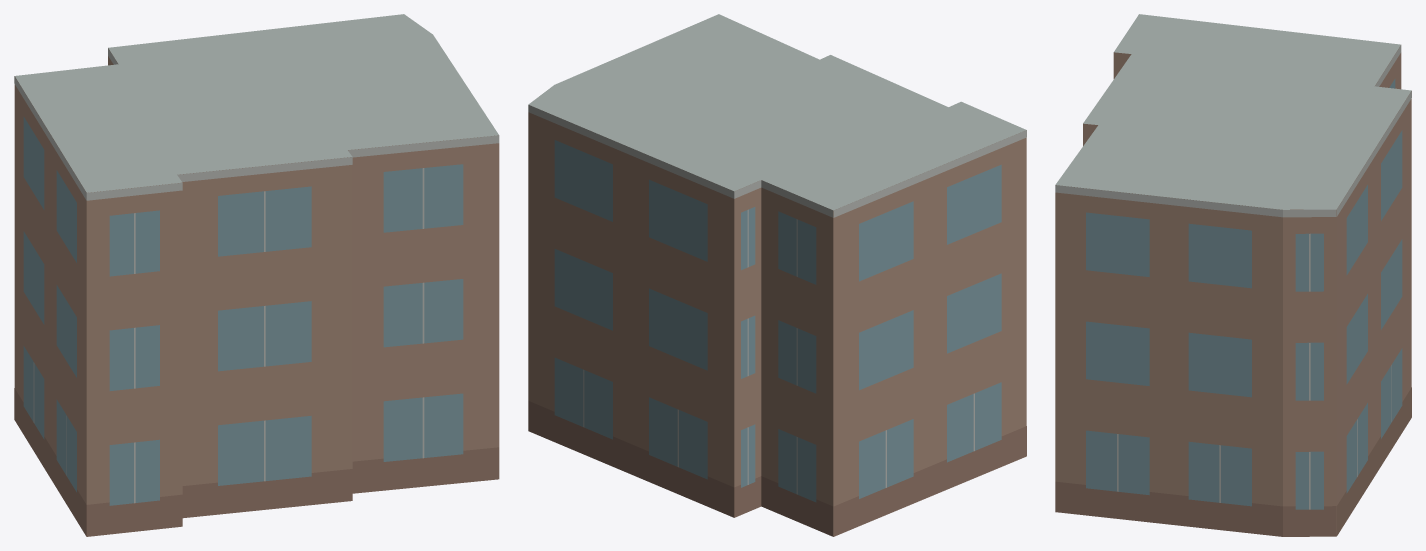
Rendered from survey-upis-32694445.glb.
3 views of the same model, side by side, from view 1: azimuth 30°, elevation 25°; view 2: azimuth 150°, elevation 25°; view 3: azimuth 270°, elevation 25° (orthographic). The views are drawn at different scales.
Parts seen in each view (by area): view 1: survey-upis-32694445.tmp; view 2: survey-upis-32694445.tmp; view 3: survey-upis-32694445.tmp.
Part boxes in pixels (<box>): survey-upis-32694445.tmp: <box>14,14,499,536</box>; survey-upis-32694445.tmp: <box>528,14,1026,536</box>; survey-upis-32694445.tmp: <box>1055,14,1411,536</box>.
Bounding box in the file's own units: 13.66 × 10.63 × 10.51.
